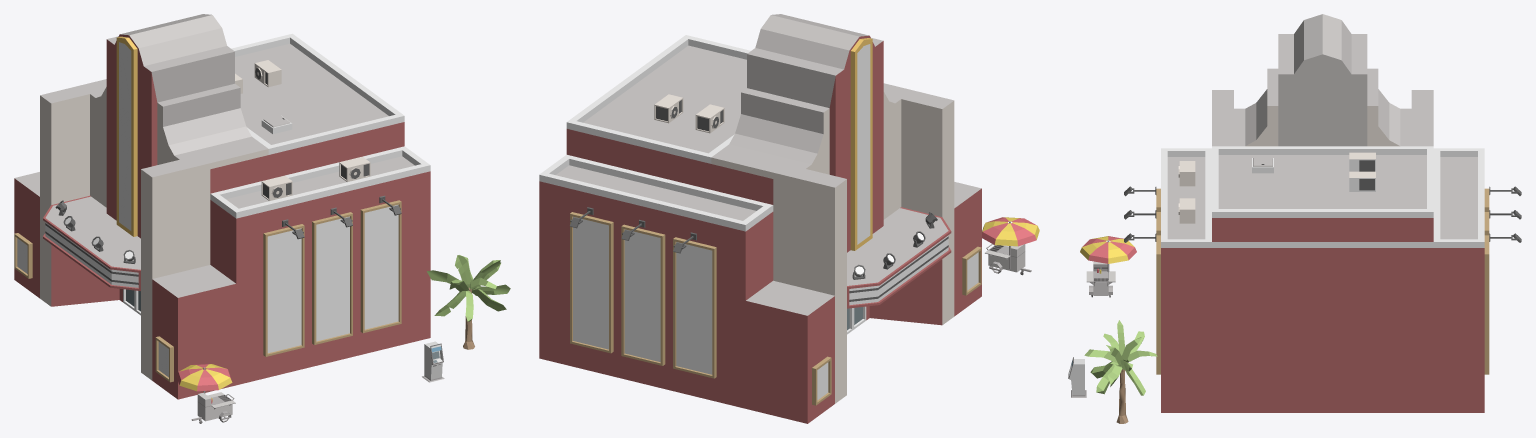
File: Cinema.fbx
3 renders of one model, left to right at view 1: azimuth 30°, elevation 25°; view 2: azimuth 150°, elevation 25°; view 3: azimuth 270°, elevation 25°, orthographic. The views are drawn at different scales.
Parts seen in each view (by area): view 1: building-cinema, palm-round, hot-dog-stand, atm-mechine; view 2: building-cinema, hot-dog-stand; view 3: building-cinema, palm-round, hot-dog-stand, atm-mechine.
Part boxes in pixels (left/top/right/bottom): building-cinema: left=14, top=14, right=430, bottom=399; palm-round: left=427, top=255, right=510, bottom=349; hot-dog-stand: left=176, top=364, right=235, bottom=423; atm-mechine: left=422, top=341, right=444, bottom=382; building-cinema: left=539, top=14, right=981, bottom=423; hot-dog-stand: left=982, top=217, right=1039, bottom=275; building-cinema: left=1124, top=14, right=1521, bottom=412; palm-round: left=1084, top=320, right=1157, bottom=423; hot-dog-stand: left=1080, top=236, right=1136, bottom=297; atm-mechine: left=1068, top=357, right=1086, bottom=397.
Size of the model in its own units: 1719 by 1458 by 2043.
